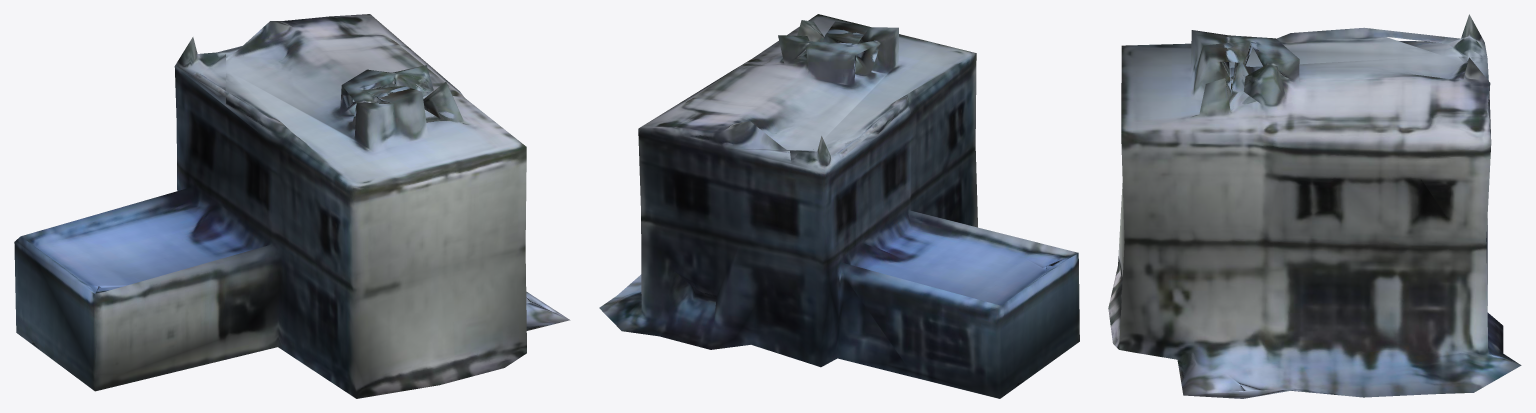
Rendered from abandoned_building6.glb.
3 renders of one model, left to right at view 1: azimuth 30°, elevation 25°; view 2: azimuth 150°, elevation 25°; view 3: azimuth 270°, elevation 25°, orthographic. The views are drawn at different scales.
Visible parts, largest first — view 1: mesh; view 2: mesh; view 3: mesh.
Part boxes in pixels (<box>): mesh: <box>14,14,570,398</box>; mesh: <box>599,14,1079,398</box>; mesh: <box>1108,14,1521,398</box>.
Size of the model in its own units: 0.9961 by 0.5651 by 0.7827.
Materials: 1 (1 with a texture image).
